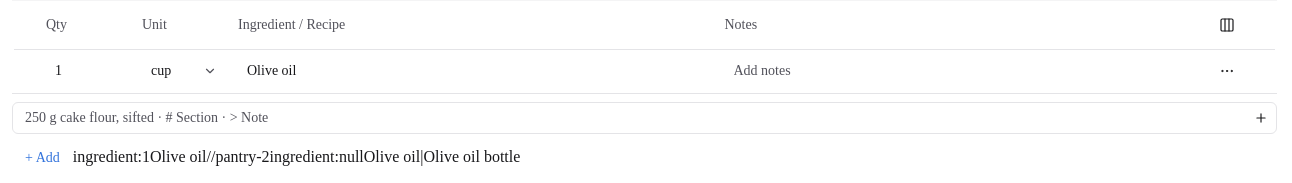
Test: recipe items table catalog picker › does not suggest a supply
This screenshot has width=1292, height=183.
Focus the dropdown named "Ingredient or recipe" at [475, 71], box [238, 55, 712, 87]
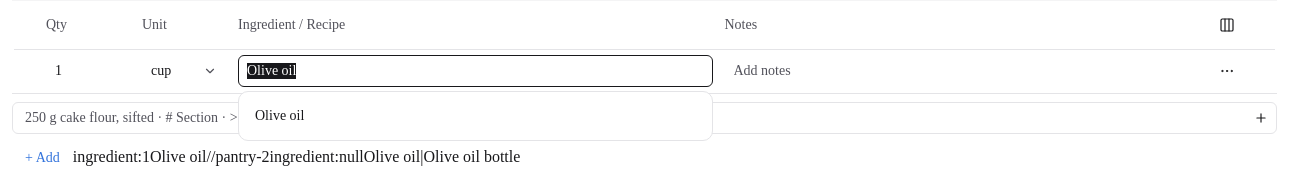
Check: the options read "Olive oil", in this order, box [245, 98, 706, 134]
